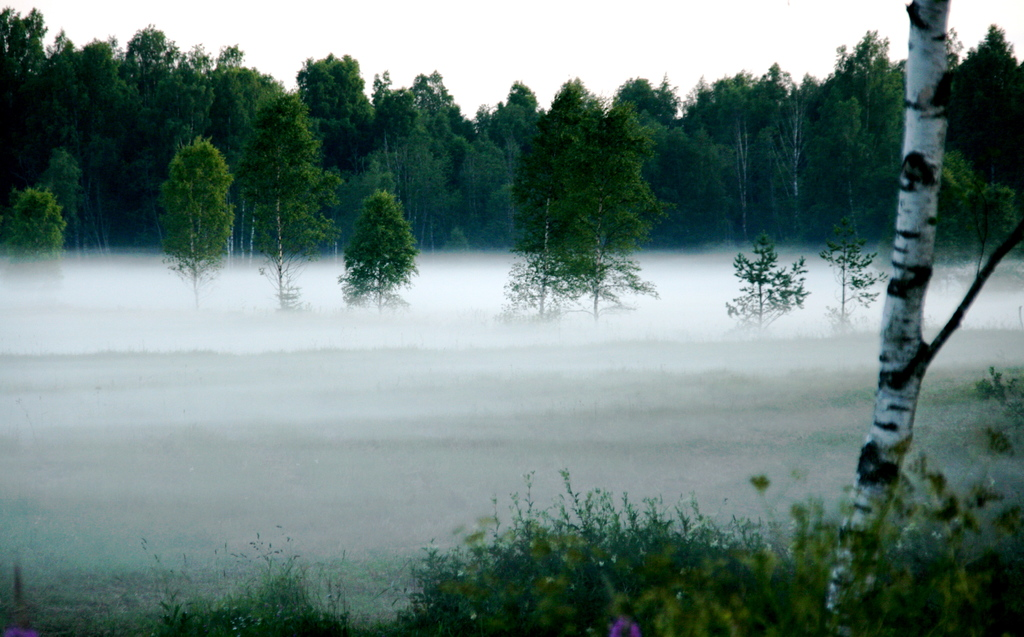Tree: (0, 6, 1023, 255), (233, 85, 337, 301), (513, 80, 604, 318), (586, 105, 664, 318), (335, 162, 421, 319), (153, 135, 234, 298)
